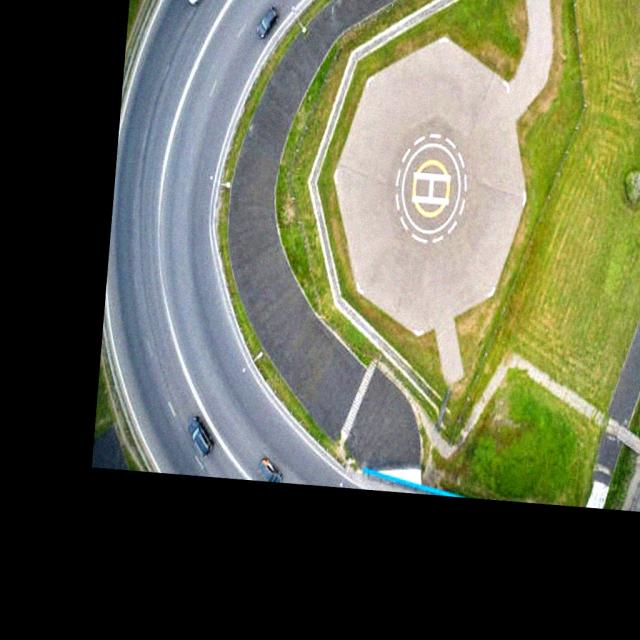helipad: (398, 140, 463, 234)
